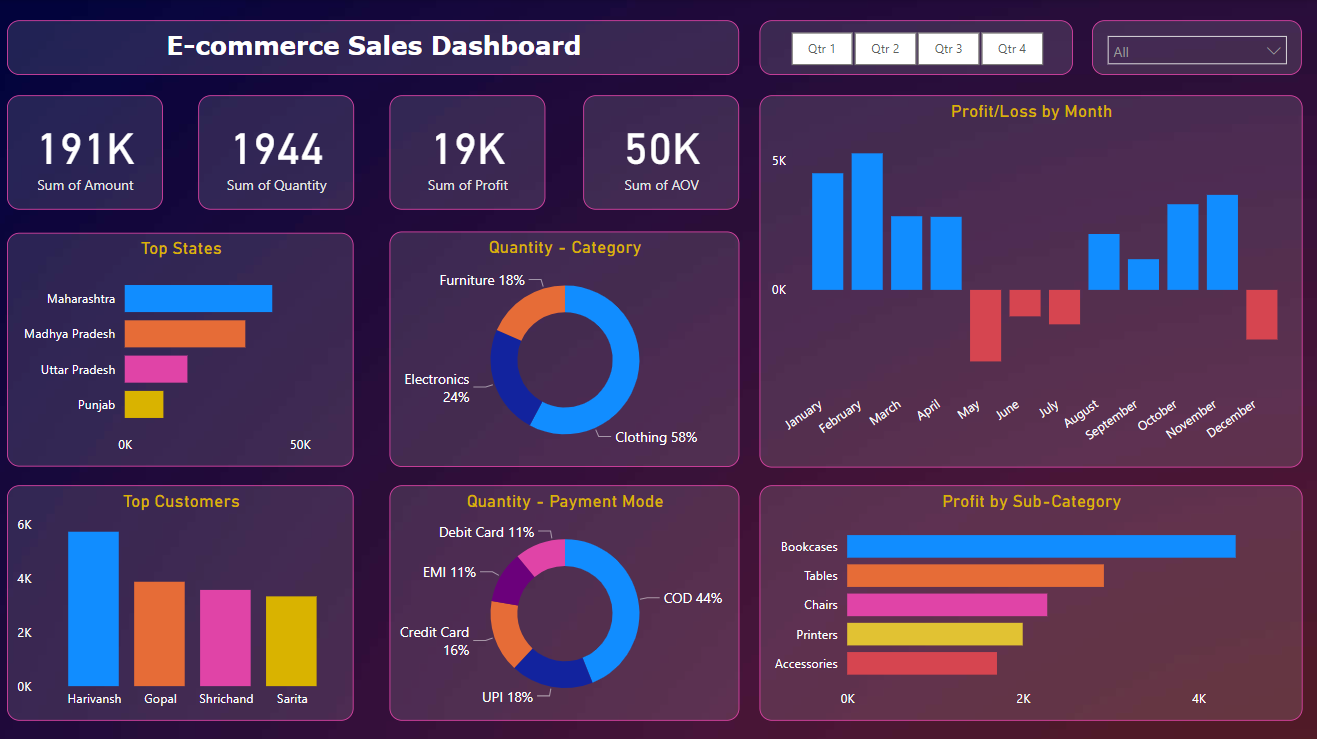

This screenshot's page, from the dashboard's own definition file:
{"tool":"powerbi","page":{"name":"Page 1","canvas":[1280,720],"ordinal":0},"visuals":[{"type":"textbox","box":[9.5,20.4,706.1,53.1],"z":0},{"type":"columnChart","title":"Profit/Loss by Month","fields":{"Category":["Orders.Order Date.Variation.Date Hierarchy.Month"],"Y":["Details.Profit"]},"box":[736.1,92.5,523.8,359.2],"z":1000},{"type":"barChart","title":"Profit by Sub-Category","fields":{"Category":["Details.Sub-Category"],"Y":["Details.Profit"]},"box":[736.1,469.4,523.8,227.2],"z":2000},{"type":"donutChart","title":"Quantity - Category","fields":{"Category":["Details.Category"],"Y":["Details.Quantity"]},"box":[378.2,224.5,337.4,227.2],"z":3000},{"type":"donutChart","title":"Quantity - Payment Mode","fields":{"Y":["Details.Quantity"],"Category":["Details.PaymentMode"]},"box":[378.2,469.4,337.4,227.2],"z":4000},{"type":"card","fields":{"Values":["Details.Amount"]},"box":[9.6,92.9,150,110],"z":5000},{"type":"card","fields":{"Values":["Details.Quantity"]},"box":[194.2,92.9,150,110],"z":6000},{"type":"card","fields":{"Values":["Details.Profit"]},"box":[378.7,92.9,150,110],"z":7000},{"type":"card","fields":{"Values":["Details.AOV"]},"box":[565.6,92.9,150,110],"z":8000},{"type":"barChart","title":"Top States","fields":{"Category":["Orders.State"],"Y":["Details.Amount"]},"box":[9.5,225.9,334.7,225.9],"z":9000},{"type":"columnChart","title":"Top Customers","fields":{"Y":["Details.Amount"],"Category":["Orders.CustomerName"]},"box":[9.5,469.4,334.7,227.2],"z":10000},{"type":"slicer","fields":{"Values":["Orders.Order Date.Variation.Date Hierarchy.Quarter"]},"box":[736.1,20.4,302,53.1],"z":11000},{"type":"slicer","fields":{"Values":["Orders.State"]},"box":[1056.5,20.5,202.6,53.1],"z":12000}]}

Visuals, with their boxes in screenshot pixels (x1, y1, x2, y2), scaled from the page's 1280x720 canvas onto the 1317x739 screenshot:
textbox: (left=10, top=21, right=736, bottom=75)
"Profit/Loss by Month" columnChart: (left=757, top=95, right=1296, bottom=464)
"Profit by Sub-Category" barChart: (left=757, top=482, right=1296, bottom=715)
"Quantity - Category" donutChart: (left=389, top=230, right=736, bottom=464)
"Quantity - Payment Mode" donutChart: (left=389, top=482, right=736, bottom=715)
card - Details.Amount: (left=10, top=95, right=164, bottom=208)
card - Details.Quantity: (left=200, top=95, right=354, bottom=208)
card - Details.Profit: (left=390, top=95, right=544, bottom=208)
card - Details.AOV: (left=582, top=95, right=736, bottom=208)
"Top States" barChart: (left=10, top=232, right=354, bottom=464)
"Top Customers" columnChart: (left=10, top=482, right=354, bottom=715)
slicer - Orders.Order Date.Variation.Date Hierarchy.Quarter: (left=757, top=21, right=1068, bottom=75)
slicer - Orders.State: (left=1087, top=21, right=1295, bottom=76)
